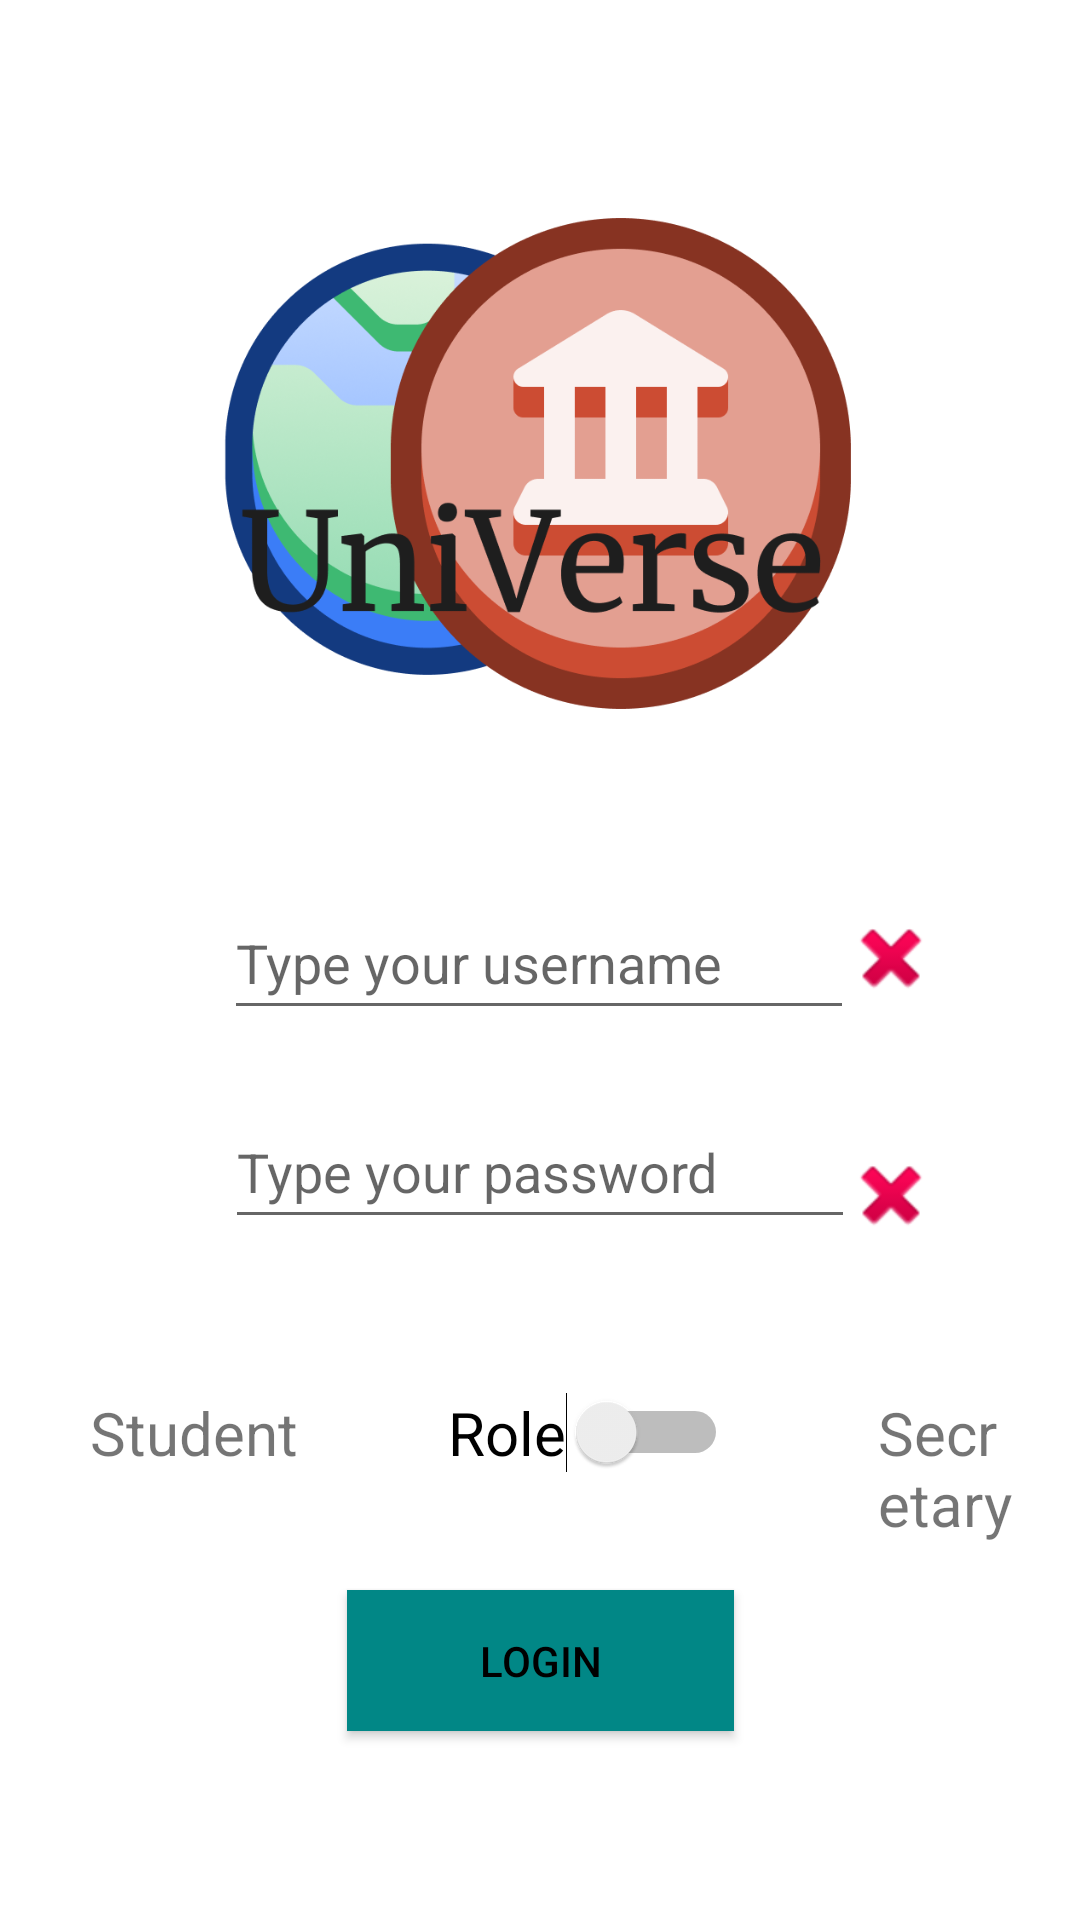

Named icons in this screenshot (1080*1920) and their centers, (x=x, y=y):
delete: (x=891, y=958), (x=891, y=1195)
